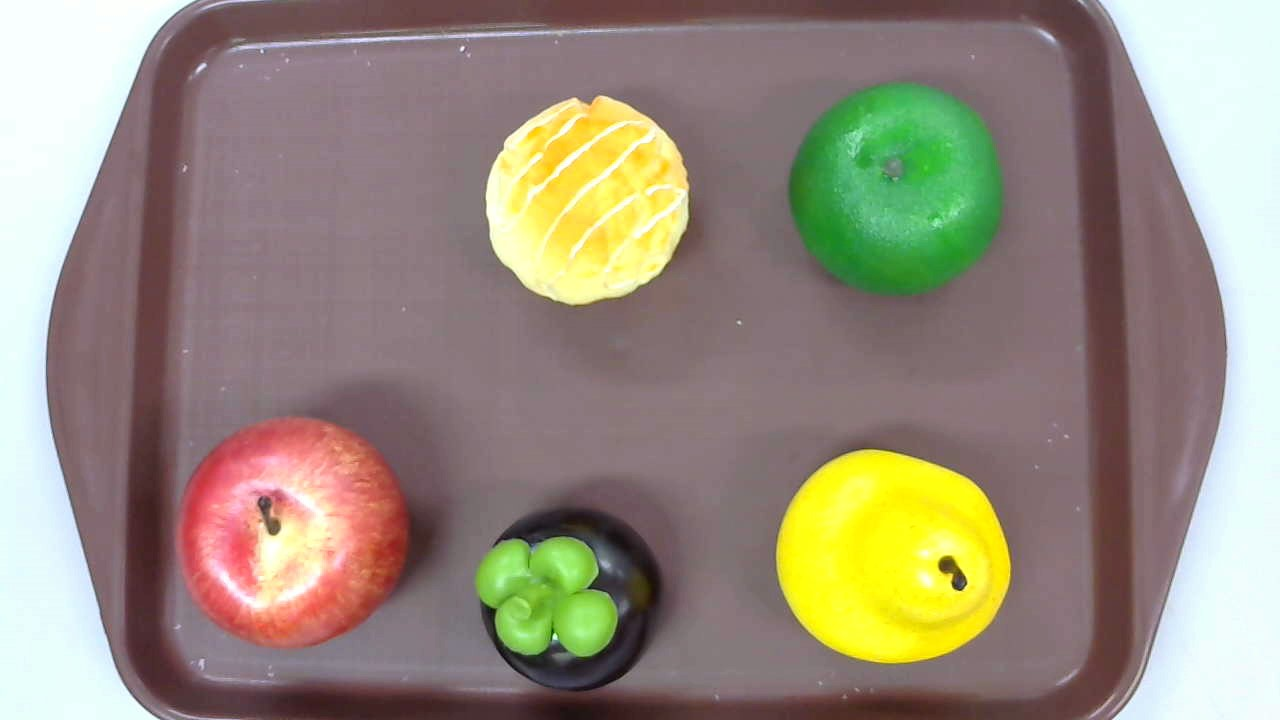cupcake: (484, 94, 691, 306)
green orange: (790, 82, 1005, 299)
mangosteen: (475, 506, 663, 691)
red apple: (175, 416, 409, 647)
yellow pear: (776, 449, 1013, 665)
